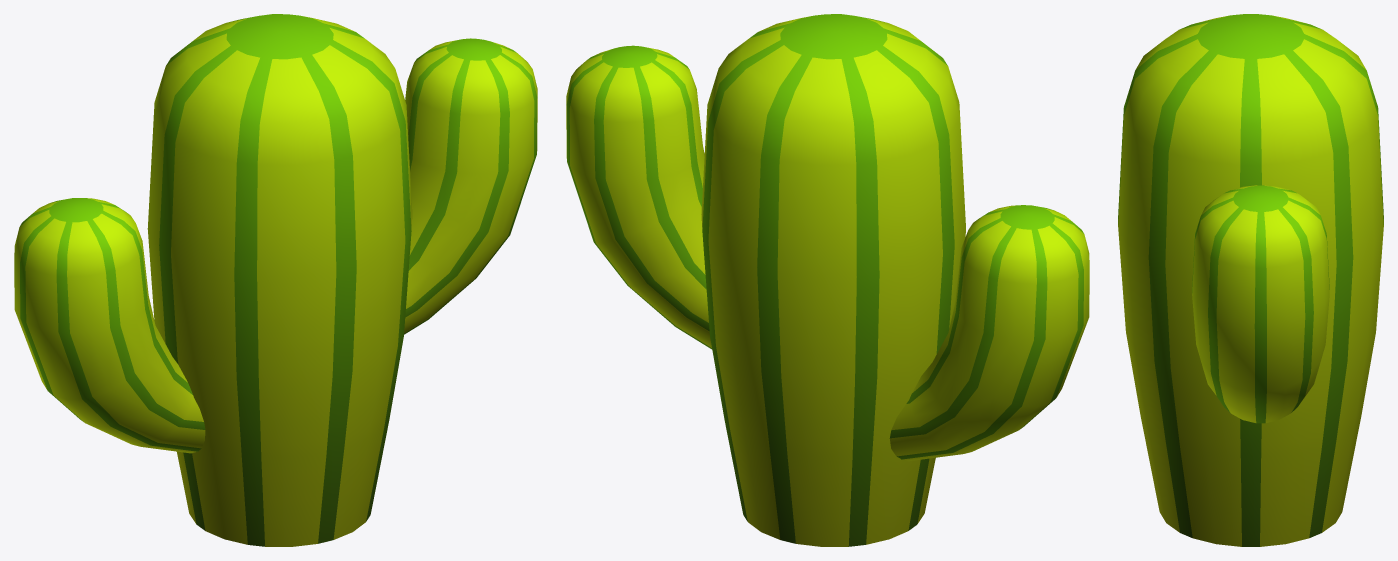
Rendered from Plant_Cactus_01.fbx.
3 renders of one model, left to right at view 1: azimuth 30°, elevation 25°; view 2: azimuth 150°, elevation 25°; view 3: azimuth 270°, elevation 25°, orthographic.
Visible parts, largest first — view 1: Plant_Cactus_01; view 2: Plant_Cactus_01; view 3: Plant_Cactus_01.
Boxes of the visible parts, x1,y1,x2,y2 form: Plant_Cactus_01: (14, 14, 537, 546); Plant_Cactus_01: (566, 14, 1089, 546); Plant_Cactus_01: (1118, 14, 1383, 546).
Size of the model in its own units: 119 by 107 by 54.22.
